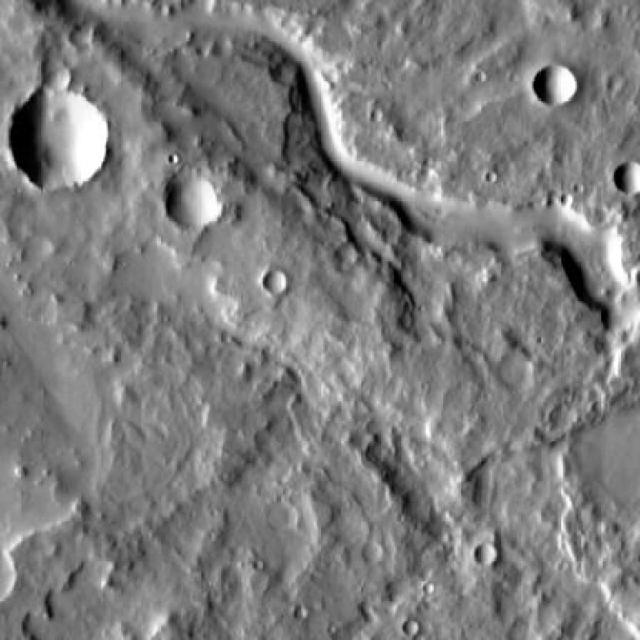crater: (12, 90, 114, 192), (166, 172, 226, 232), (535, 65, 576, 107), (612, 162, 640, 196), (40, 66, 66, 92), (75, 22, 98, 44), (476, 545, 498, 567), (268, 272, 290, 293), (365, 545, 384, 563)
